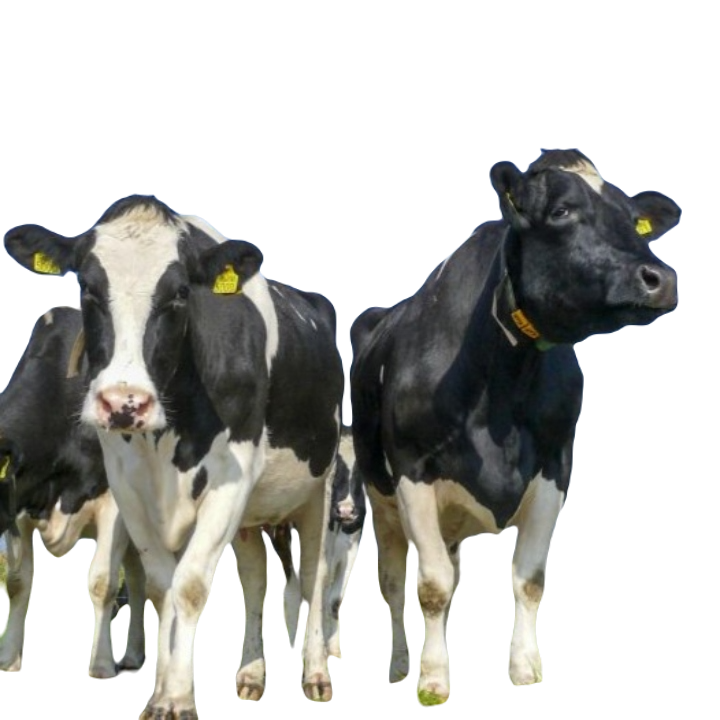Cow: (348, 143, 680, 719), (2, 194, 343, 719)
